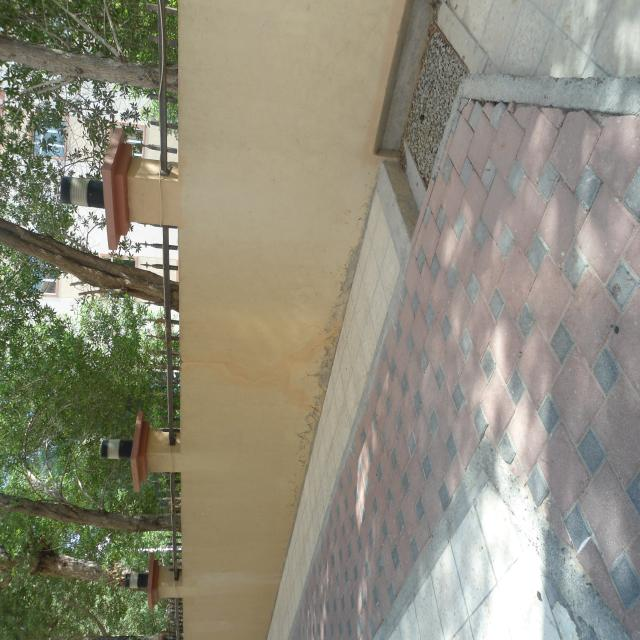path: (288, 76, 640, 640)
pothole: (381, 8, 484, 212)
tree-chair-bench-table-wall: (0, 0, 167, 640)
wall: (160, 0, 407, 640)
